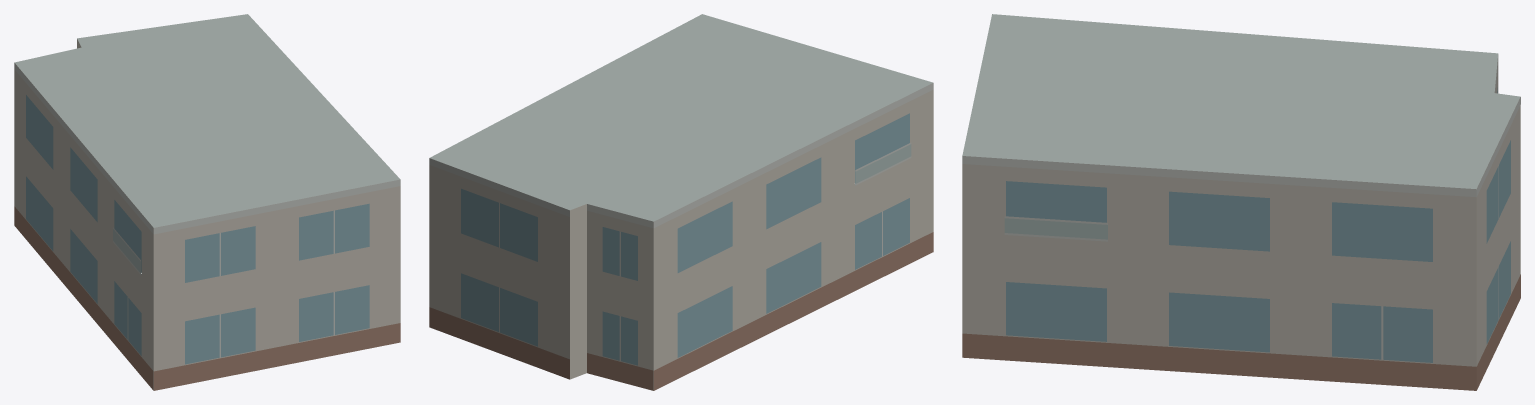
The model's file is survey-upis-32669942.glb.
3 renders of one model, left to right at view 1: azimuth 30°, elevation 25°; view 2: azimuth 150°, elevation 25°; view 3: azimuth 270°, elevation 25°, orthographic. The views are drawn at different scales.
Parts seen in each view (by area): view 1: survey-upis-32669942.tmp; view 2: survey-upis-32669942.tmp; view 3: survey-upis-32669942.tmp.
Part boxes in pixels (x1,y1,x2,y2): survey-upis-32669942.tmp: (14, 14, 400, 390); survey-upis-32669942.tmp: (429, 14, 933, 390); survey-upis-32669942.tmp: (962, 14, 1520, 390).
Bounding box in the file's own units: 11.37 × 6.1 × 15.31.
